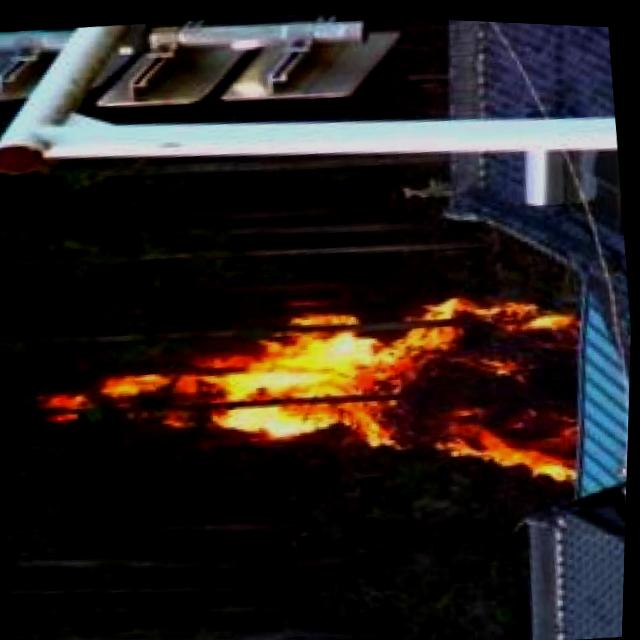Fire: (97, 268, 590, 520), (30, 375, 100, 434)
